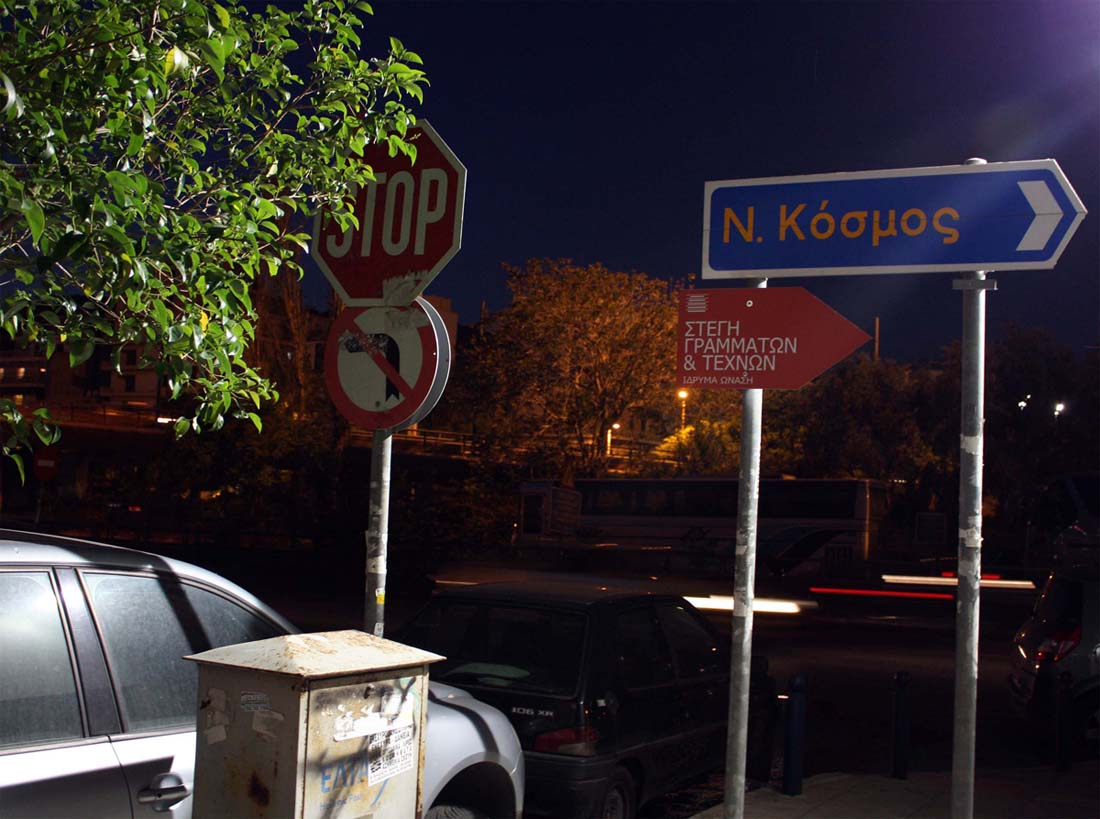stop: (307, 119, 466, 303)
